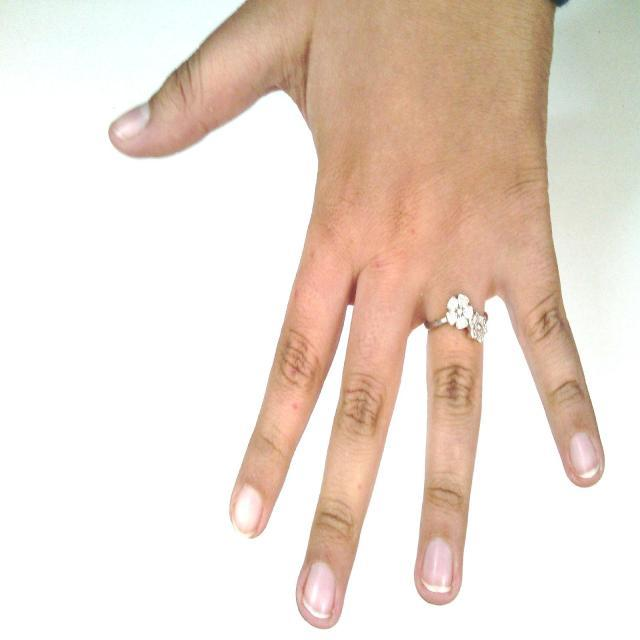Fingernail: (421, 539, 453, 592), (304, 563, 335, 617), (111, 105, 148, 142), (570, 433, 598, 478), (235, 487, 262, 533)
